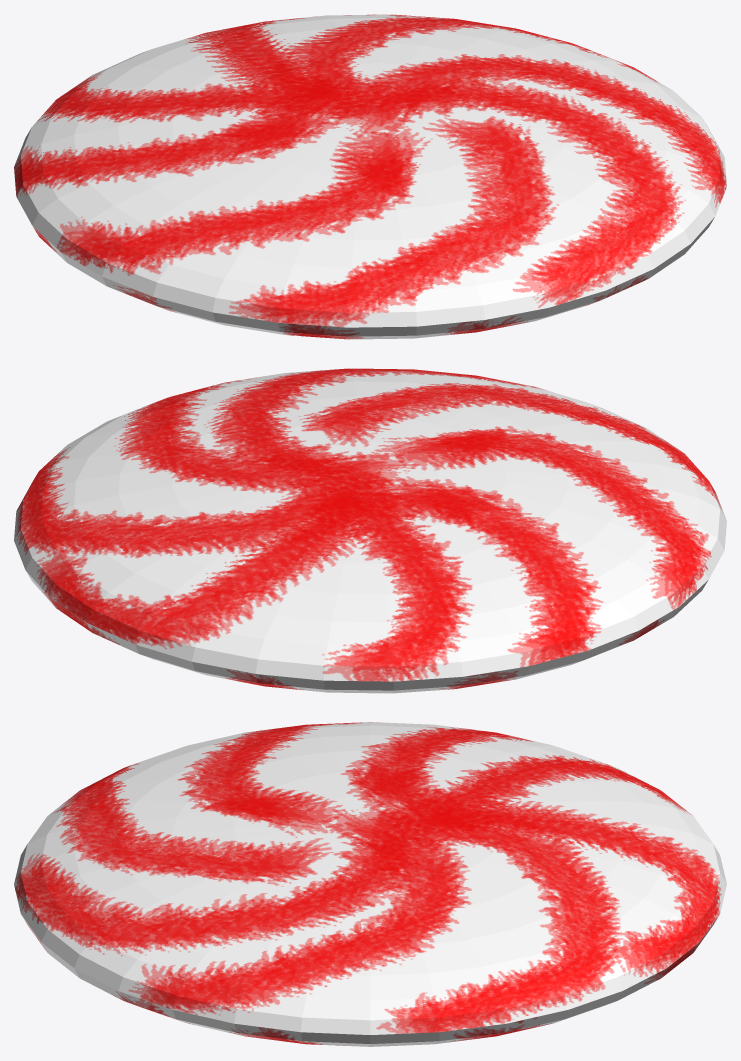
The model's file is PepperMint.fbx.
The picture shows the model from 3 angles, top to bottom: view 1: azimuth 30°, elevation 25°; view 2: azimuth 150°, elevation 25°; view 3: azimuth 270°, elevation 25°; orthographic projection.
Visible parts, largest first — view 1: Sphere; view 2: Sphere; view 3: Sphere.
Part boxes in pixels (left/top/right/bottom): Sphere: left=14, top=14, right=726, bottom=339; Sphere: left=14, top=368, right=726, bottom=693; Sphere: left=14, top=722, right=726, bottom=1046.
Size of the model in its own units: 50 by 9.41 by 50.
